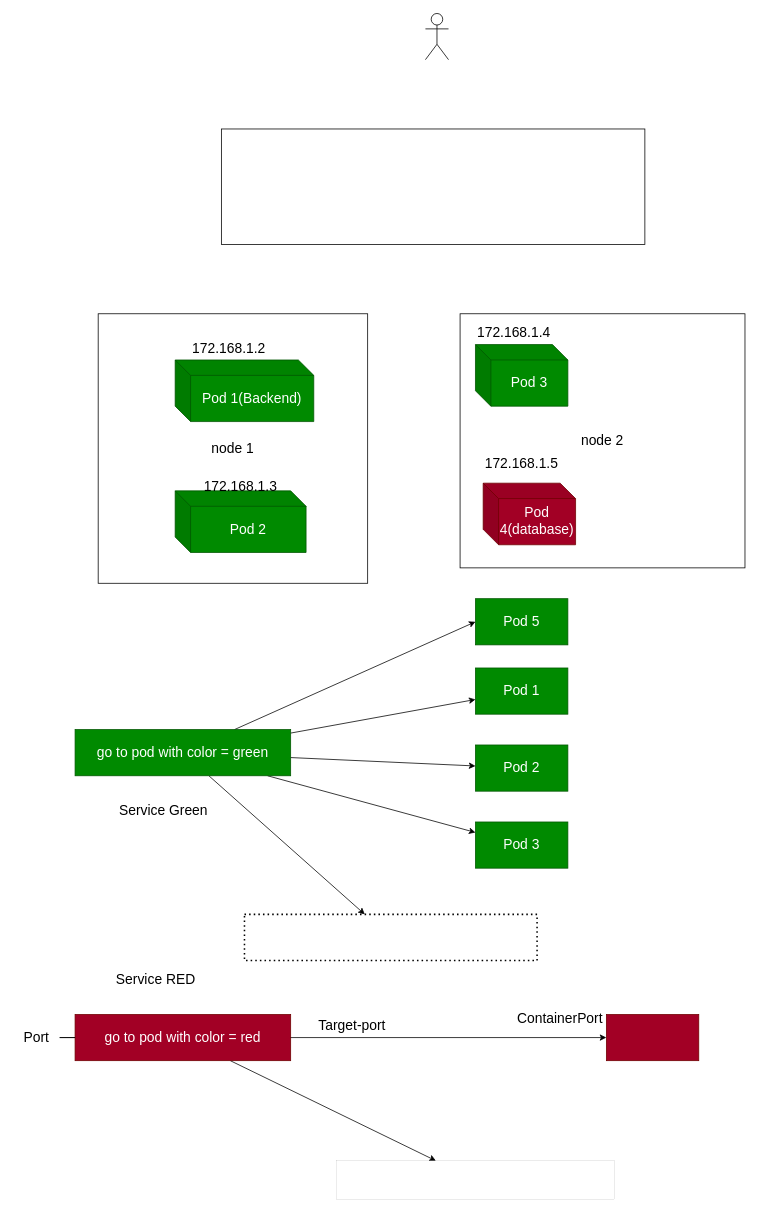
Some shapes in this 758 by 1213 pixel diagram are drawn without their labels. Here are the shapes that lost their labels. From the top down, the centre of each, then its label:
the point at 437,36: Actor
the point at 433,186: ControlPlane
the point at 390,937: Endpoint (IP pod1 ,Ip pod 2,IP pod 3, Ip pod 4)
the point at 652,1037: Pod 4
the point at 475,1179: Endpoint (IP pod 4)
